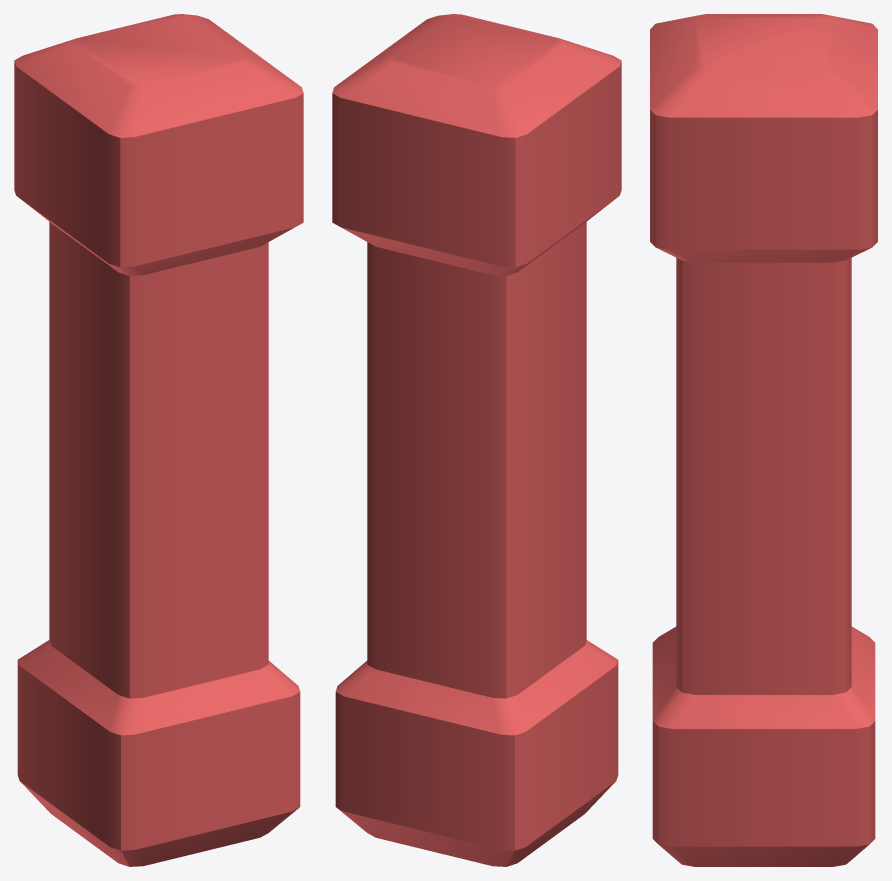
Rendered from lavaDing_11.fbx.
3 views of the same model, side by side, from view 1: azimuth 30°, elevation 25°; view 2: azimuth 150°, elevation 25°; view 3: azimuth 270°, elevation 25° (orthographic). The views are drawn at different scales.
Visible parts, largest first — view 1: Cube.024; view 2: Cube.024; view 3: Cube.024.
Boxes of the visible parts, x1,y1,x2,y2 form: Cube.024: [14, 14, 303, 866]; Cube.024: [332, 14, 621, 866]; Cube.024: [650, 14, 877, 866].
Bounding box in the file's own units: 62.4 × 238 × 62.4.
